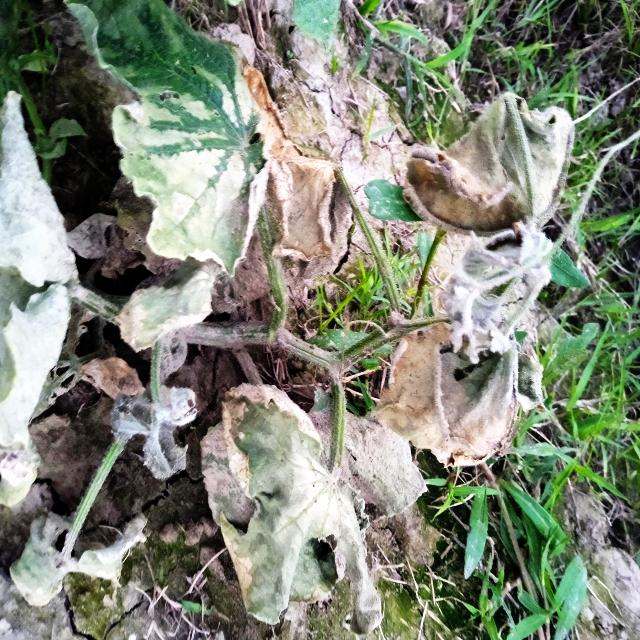Bacterial-Wilt: (199, 381, 383, 638), (400, 88, 575, 241), (239, 59, 337, 263), (6, 504, 151, 609)
